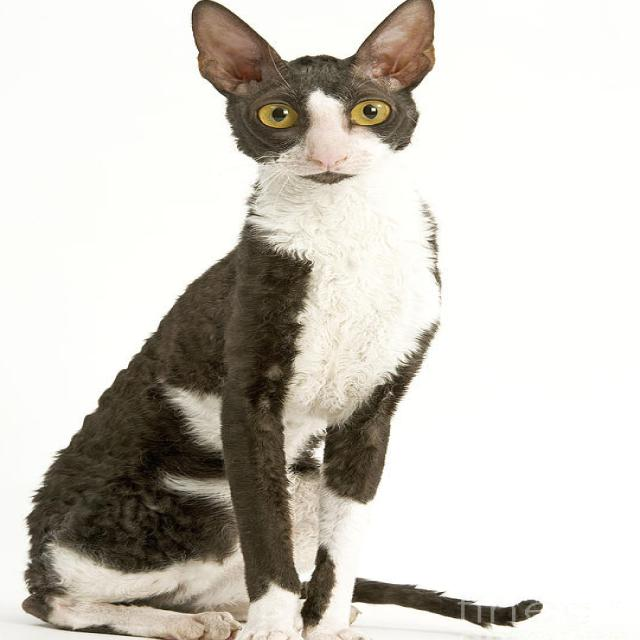Cornish Rex: (13, 0, 548, 640)
